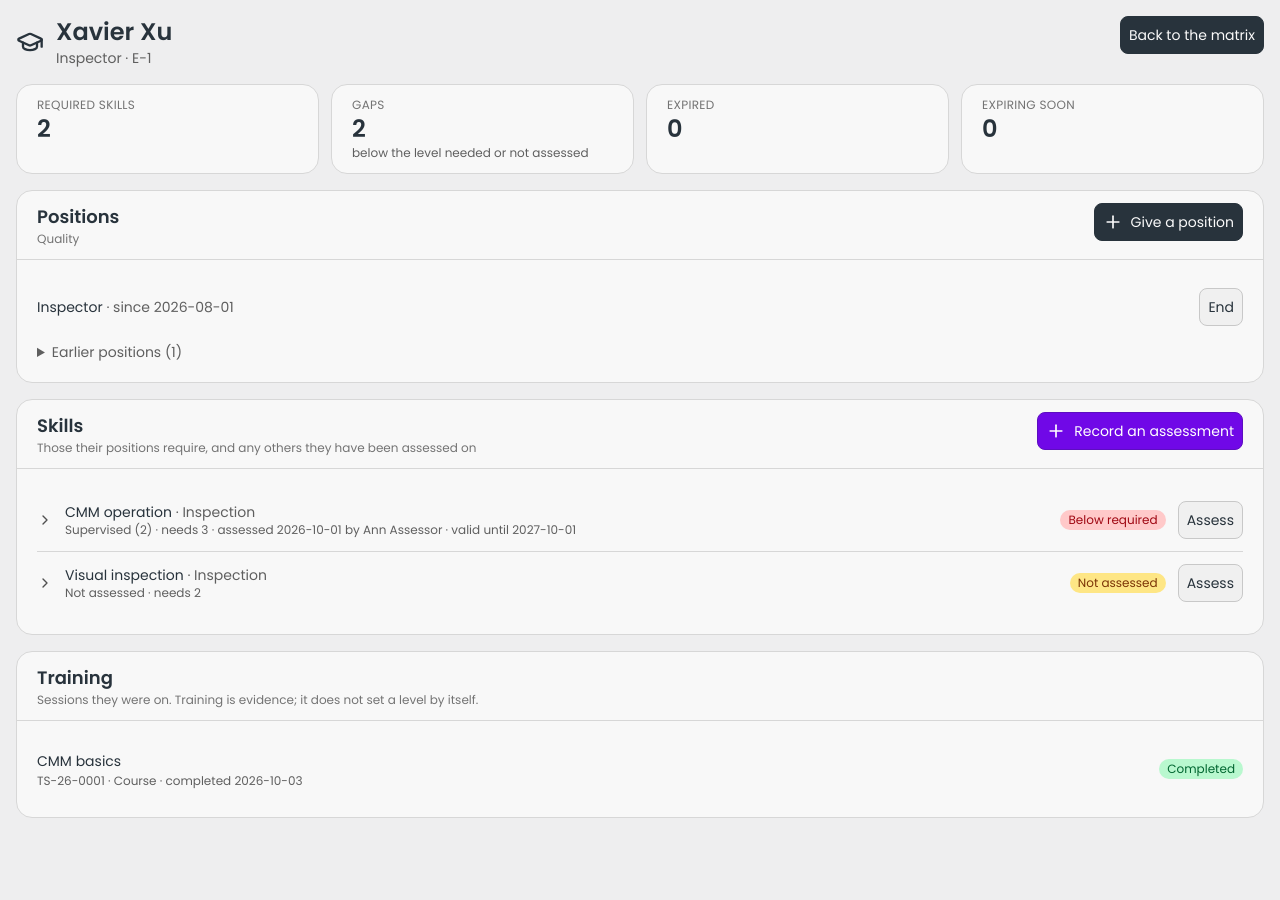
it: person page › shows positions with dates, skills by what needs attention first, and history on request
expect the heading "Xavier Xu" is shown: met, box top-left (56, 16), bottom-right (172, 48)
expect the text "· since 2026-08-01" is shown: met, box top-left (106, 297), bottom-right (234, 317)
Click the button named "Show history for CMM operation".
click(45, 520)  # box top-left (37, 512), bottom-right (53, 528)
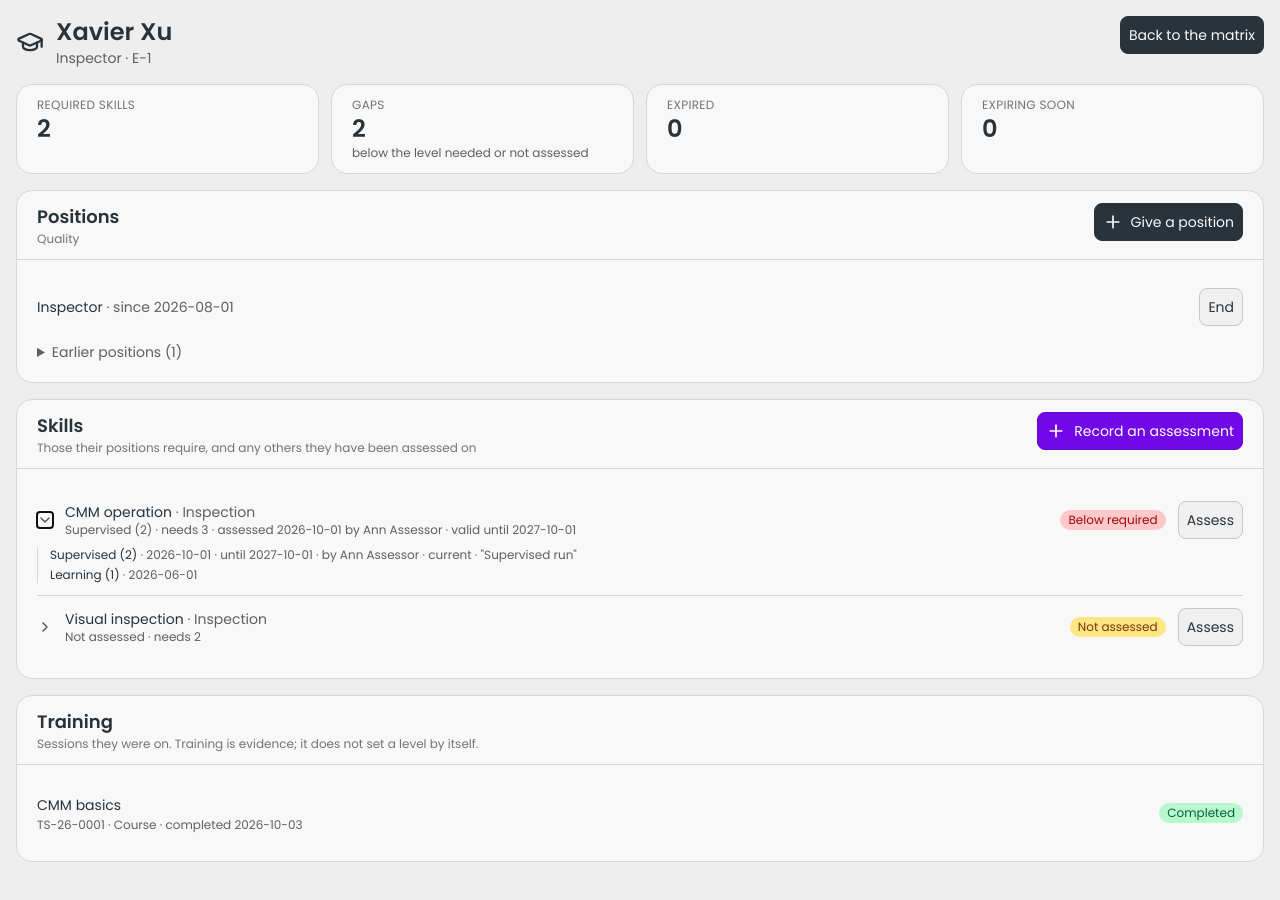
expect the list named "Assessment history" shows "Supervised (2) · 2026-10-01 · until 2027-10-01 · by Ann Assessor · current": met, box top-left (37, 547), bottom-right (1243, 583)
